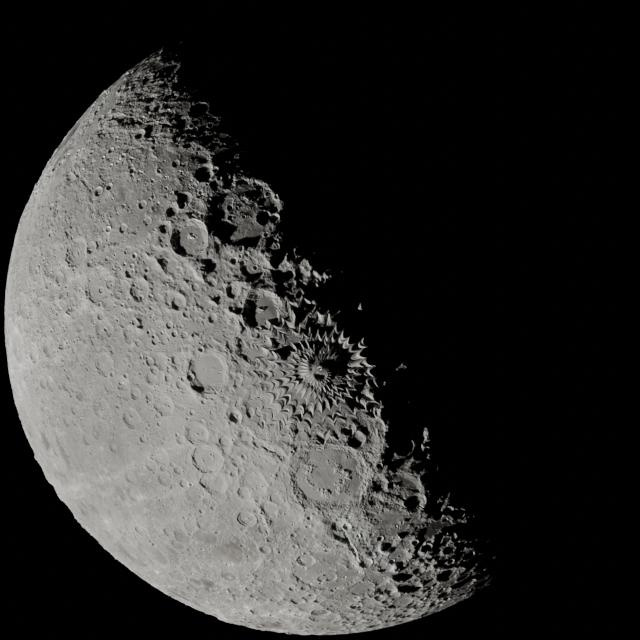crater: (186, 350, 228, 394), (174, 217, 211, 256), (162, 253, 195, 286), (86, 272, 115, 304), (192, 443, 222, 472), (199, 470, 230, 496), (184, 483, 209, 508), (141, 253, 164, 279), (67, 235, 88, 263), (244, 394, 269, 416), (95, 352, 115, 377), (124, 464, 146, 486), (187, 422, 210, 443), (166, 290, 187, 311), (261, 499, 281, 520), (130, 280, 148, 302), (403, 494, 422, 513), (122, 409, 140, 429), (152, 352, 170, 372), (194, 165, 214, 183), (174, 529, 193, 546), (236, 511, 256, 527), (156, 398, 173, 416), (297, 552, 316, 568), (255, 210, 272, 227), (156, 471, 174, 487), (436, 568, 454, 582), (219, 433, 233, 449), (157, 222, 172, 236), (237, 486, 252, 500), (41, 342, 54, 358), (205, 273, 219, 287), (51, 271, 64, 286), (146, 370, 159, 384), (226, 284, 239, 298), (229, 410, 242, 424), (124, 263, 136, 278), (310, 607, 328, 617), (144, 392, 156, 406), (323, 571, 338, 582), (165, 206, 178, 218), (90, 426, 102, 439), (82, 433, 94, 446), (176, 379, 188, 392), (331, 520, 343, 533), (222, 570, 236, 581), (108, 441, 120, 453), (130, 388, 142, 400), (87, 240, 98, 253), (133, 316, 144, 329), (270, 212, 281, 225), (163, 526, 174, 538), (39, 378, 49, 391), (259, 544, 271, 554), (94, 186, 104, 197), (207, 313, 217, 324), (142, 215, 152, 226), (74, 390, 84, 401), (180, 478, 190, 489), (342, 520, 353, 530), (145, 356, 155, 366), (149, 366, 159, 376), (248, 607, 258, 616), (120, 223, 128, 233), (65, 306, 73, 316), (229, 257, 238, 265), (171, 160, 180, 168), (376, 535, 384, 544), (134, 132, 143, 140), (170, 330, 178, 338), (197, 345, 205, 353), (138, 201, 146, 209), (131, 252, 138, 260), (105, 225, 112, 233), (108, 146, 115, 153), (105, 184, 112, 190), (156, 167, 162, 174)
rock: (376, 509, 410, 542), (298, 472, 334, 503), (421, 519, 446, 545), (387, 543, 414, 566), (336, 464, 354, 486), (39, 430, 55, 454), (352, 428, 369, 446), (440, 540, 455, 556), (254, 302, 268, 318), (303, 461, 316, 477)
